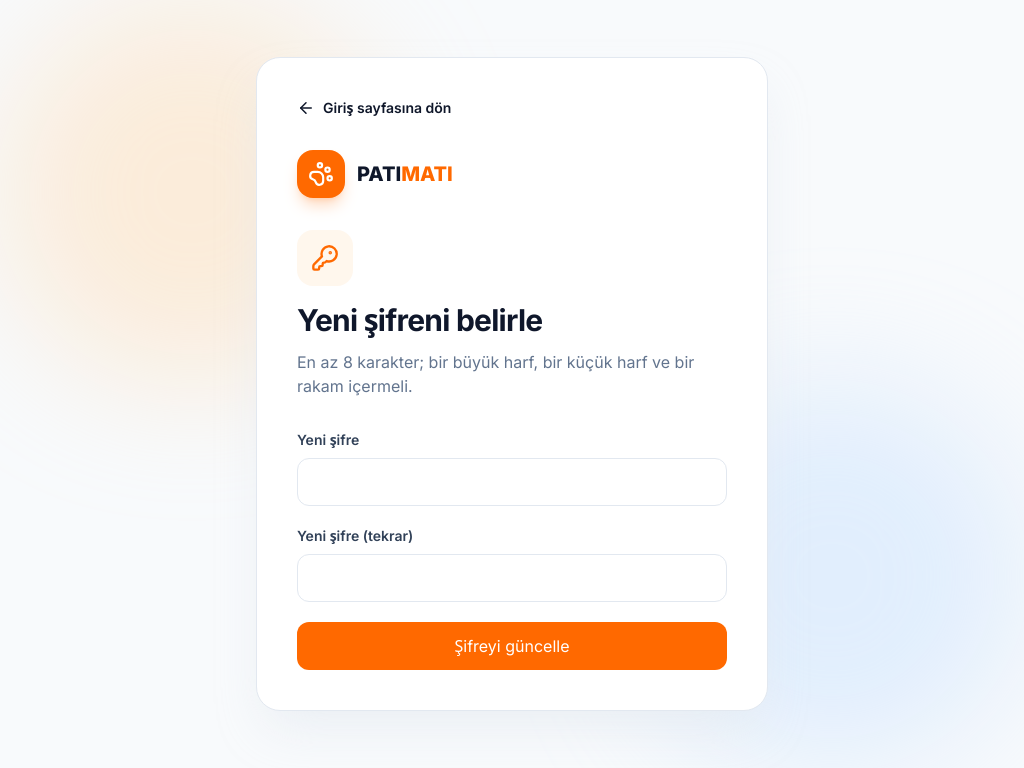
Test: ResetPasswordPage › şifreler eşleşmezse istek GİTMEZ ve hata gösterilir
Type "YeniSifre1" into the password field labelled "Yeni şifre" at point(512, 482), box [297,458,727,506]
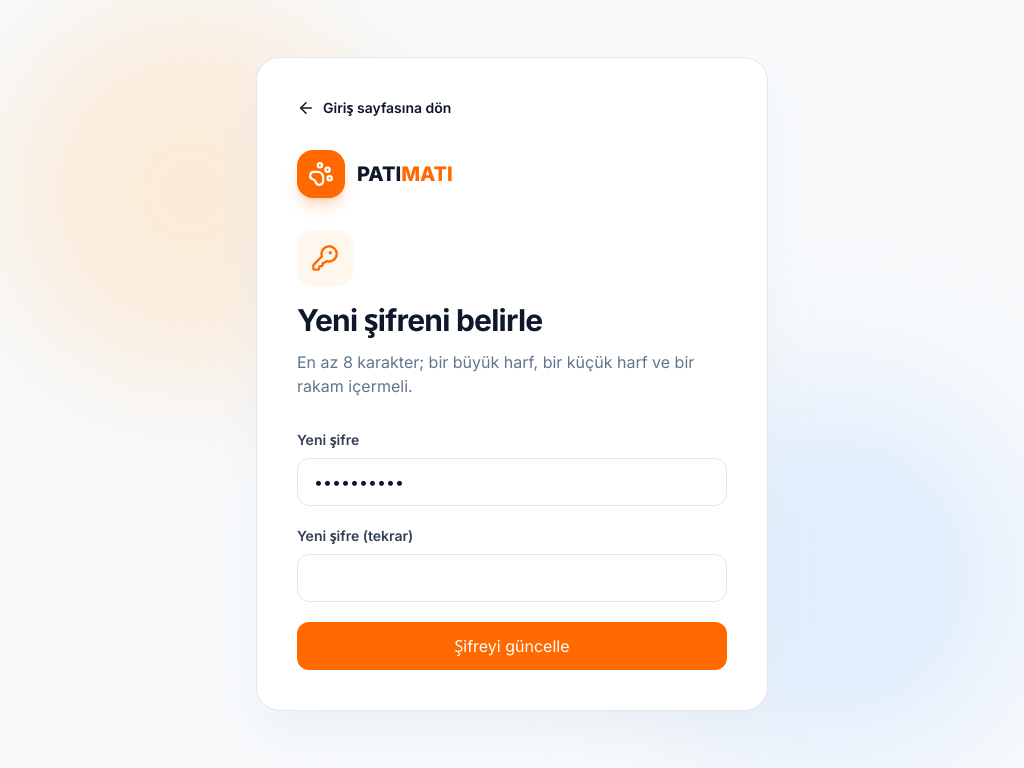
Type "BaskaSifre1" into the password field labelled "Yeni şifre (tekrar)" at point(512, 578), box [297,554,727,602]
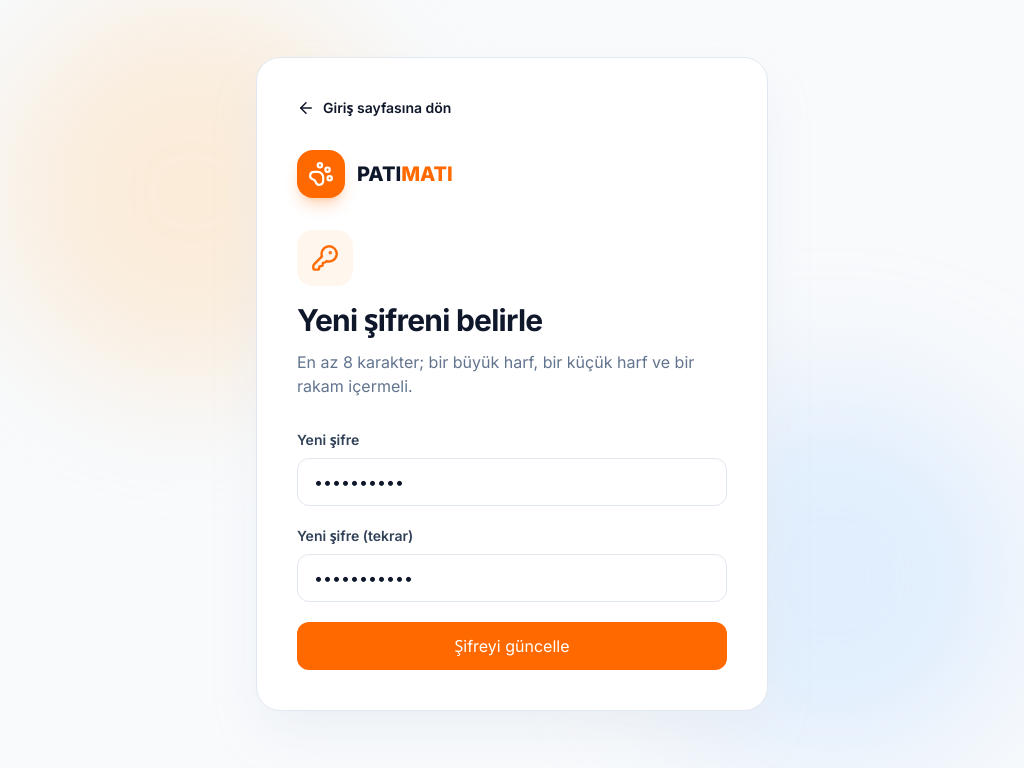
Click the button "Şifreyi güncelle" at point(512, 646), box [297,622,727,670]
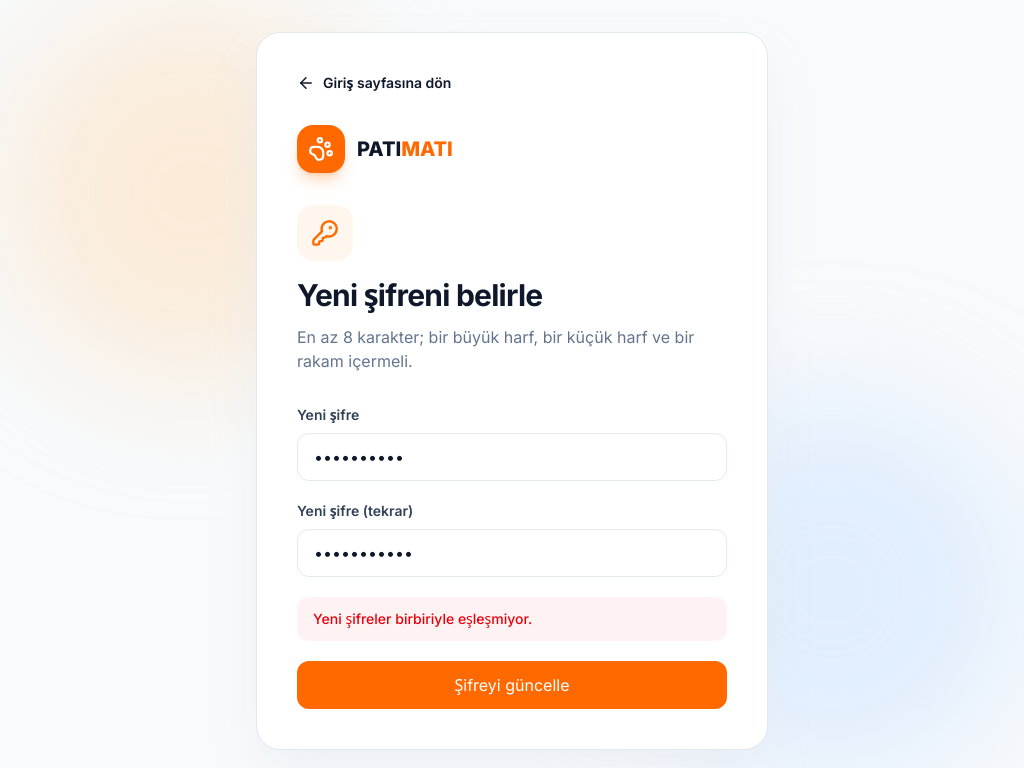
Check: the message reads "Yeni şifreler birbiriyle eşleşmiyor.", box [313,610,532,627]
